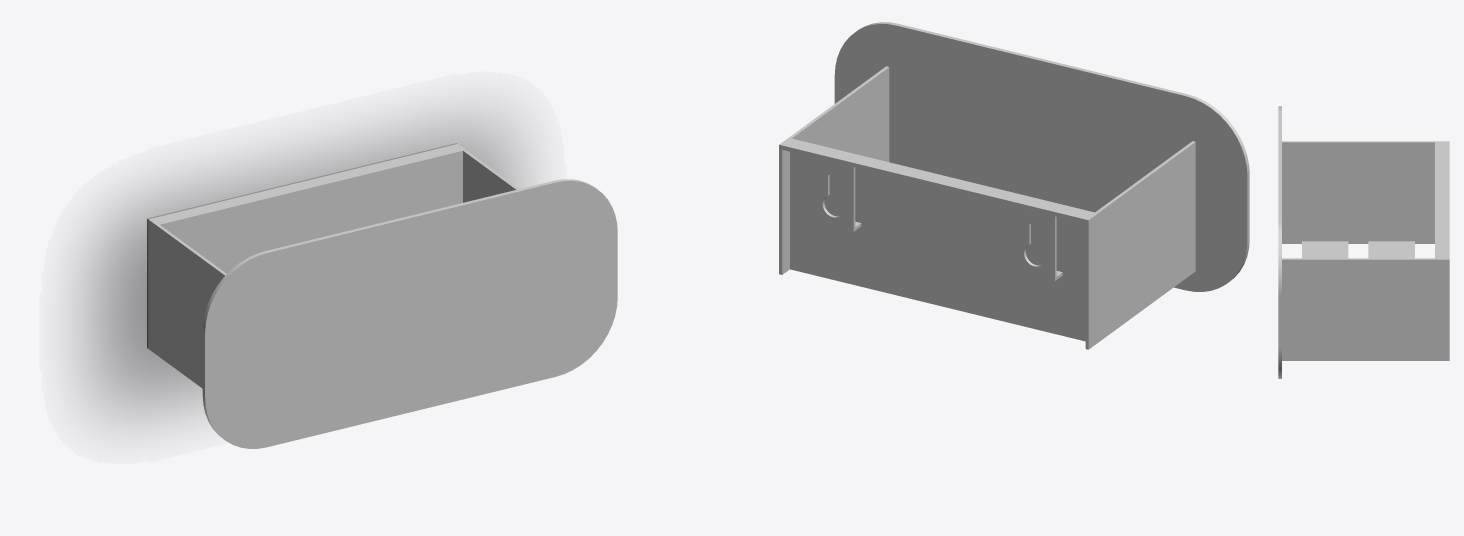
File: radius-mono.a04a5aceb7.ar.glb
3 renders of one model, left to right at view 1: azimuth 30°, elevation 25°; view 2: azimuth 150°, elevation 25°; view 3: azimuth 270°, elevation 25°, orthographic. The views are drawn at different scales.
Visible parts, largest first — view 1: NAUO1, object 2; view 2: NAUO1; view 3: NAUO1.
Boxes of the visible parts, bbox=[...] form: NAUO1: bbox=[147, 143, 617, 448]; object 2: bbox=[79, 117, 526, 418]; NAUO1: bbox=[779, 22, 1249, 349]; NAUO1: bbox=[1278, 106, 1449, 378].
Bounding box in the file's own units: 0.28 × 0.17 × 0.092.
Materials: 2 (1 with a texture image).
